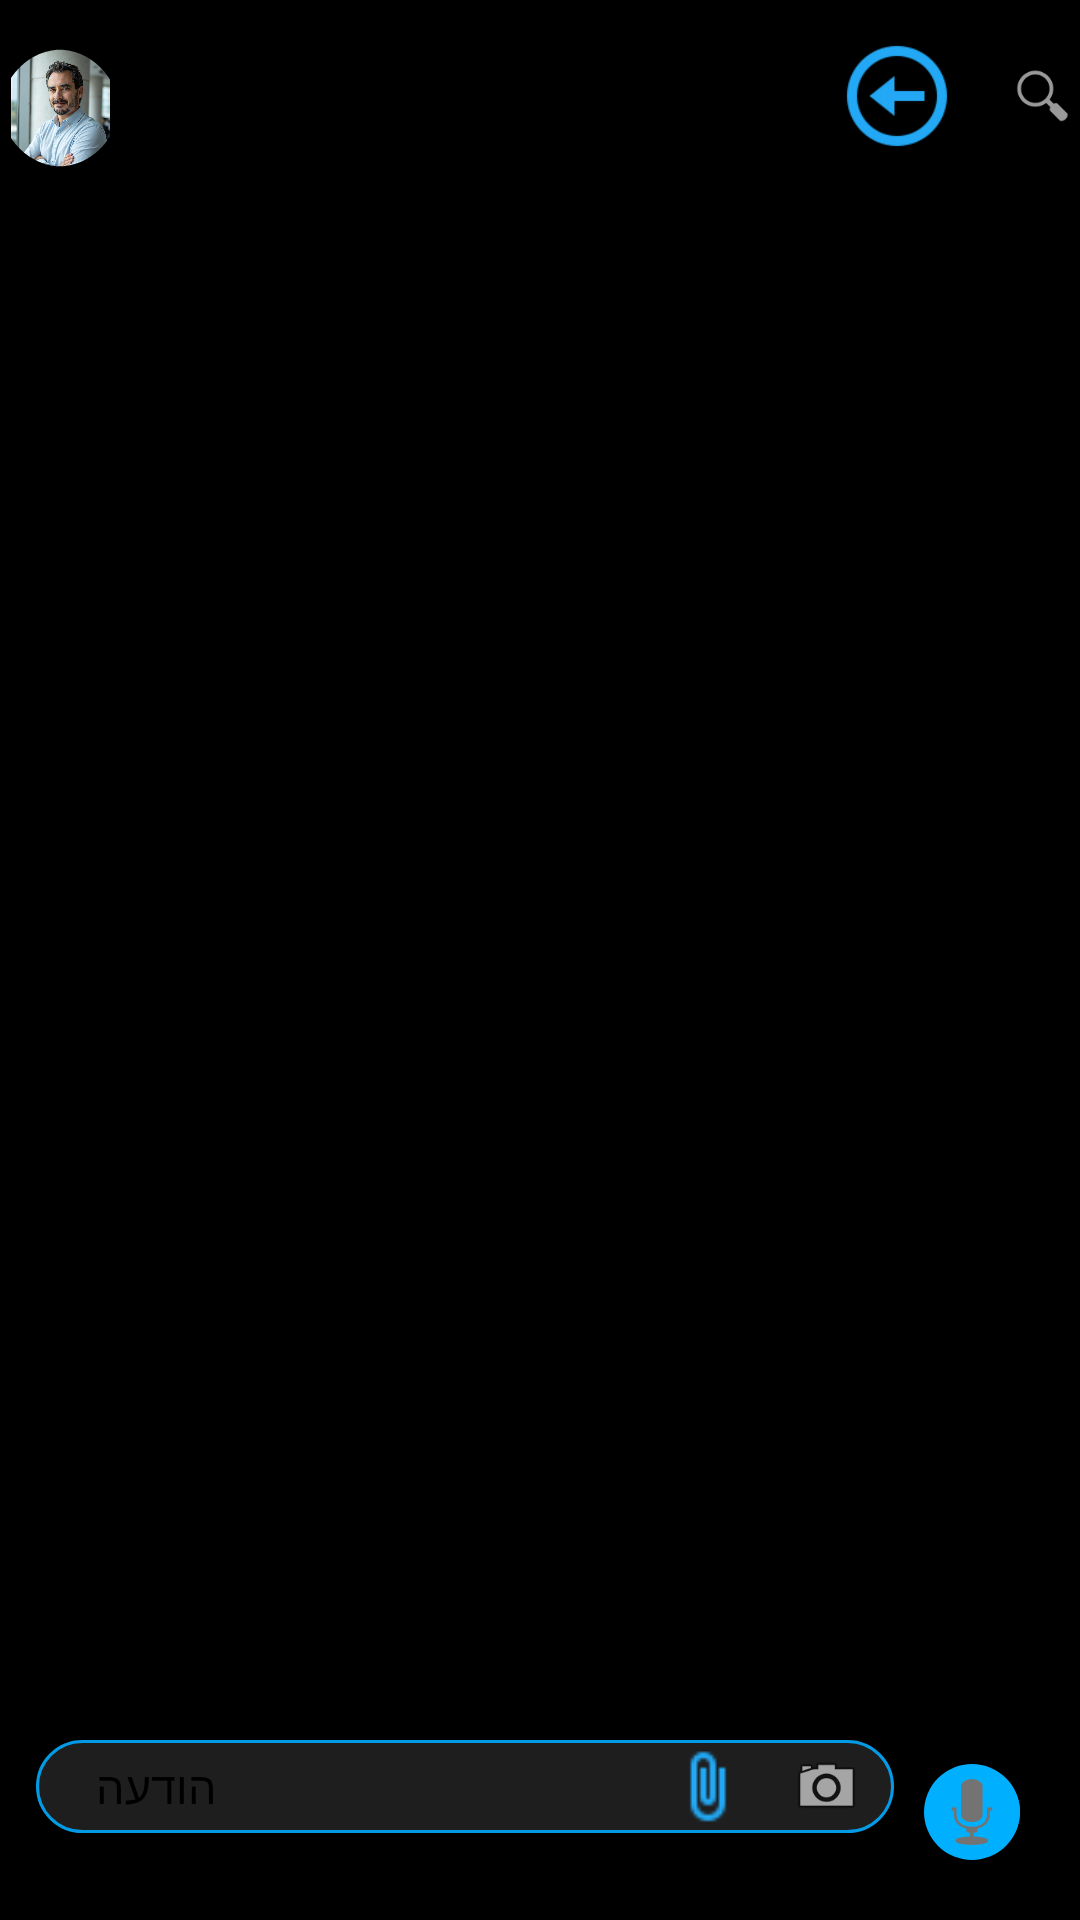

Where icons sit on this 1080x1920 app screen, as (x1, y1, x2, y2):
attach: (690, 1751, 726, 1822)
Back: (847, 46, 947, 146)
camera: (800, 1765, 853, 1806)
search: (1017, 70, 1068, 121)
speak now: (924, 1764, 1020, 1860)
User Image: (11, 49, 110, 167)
